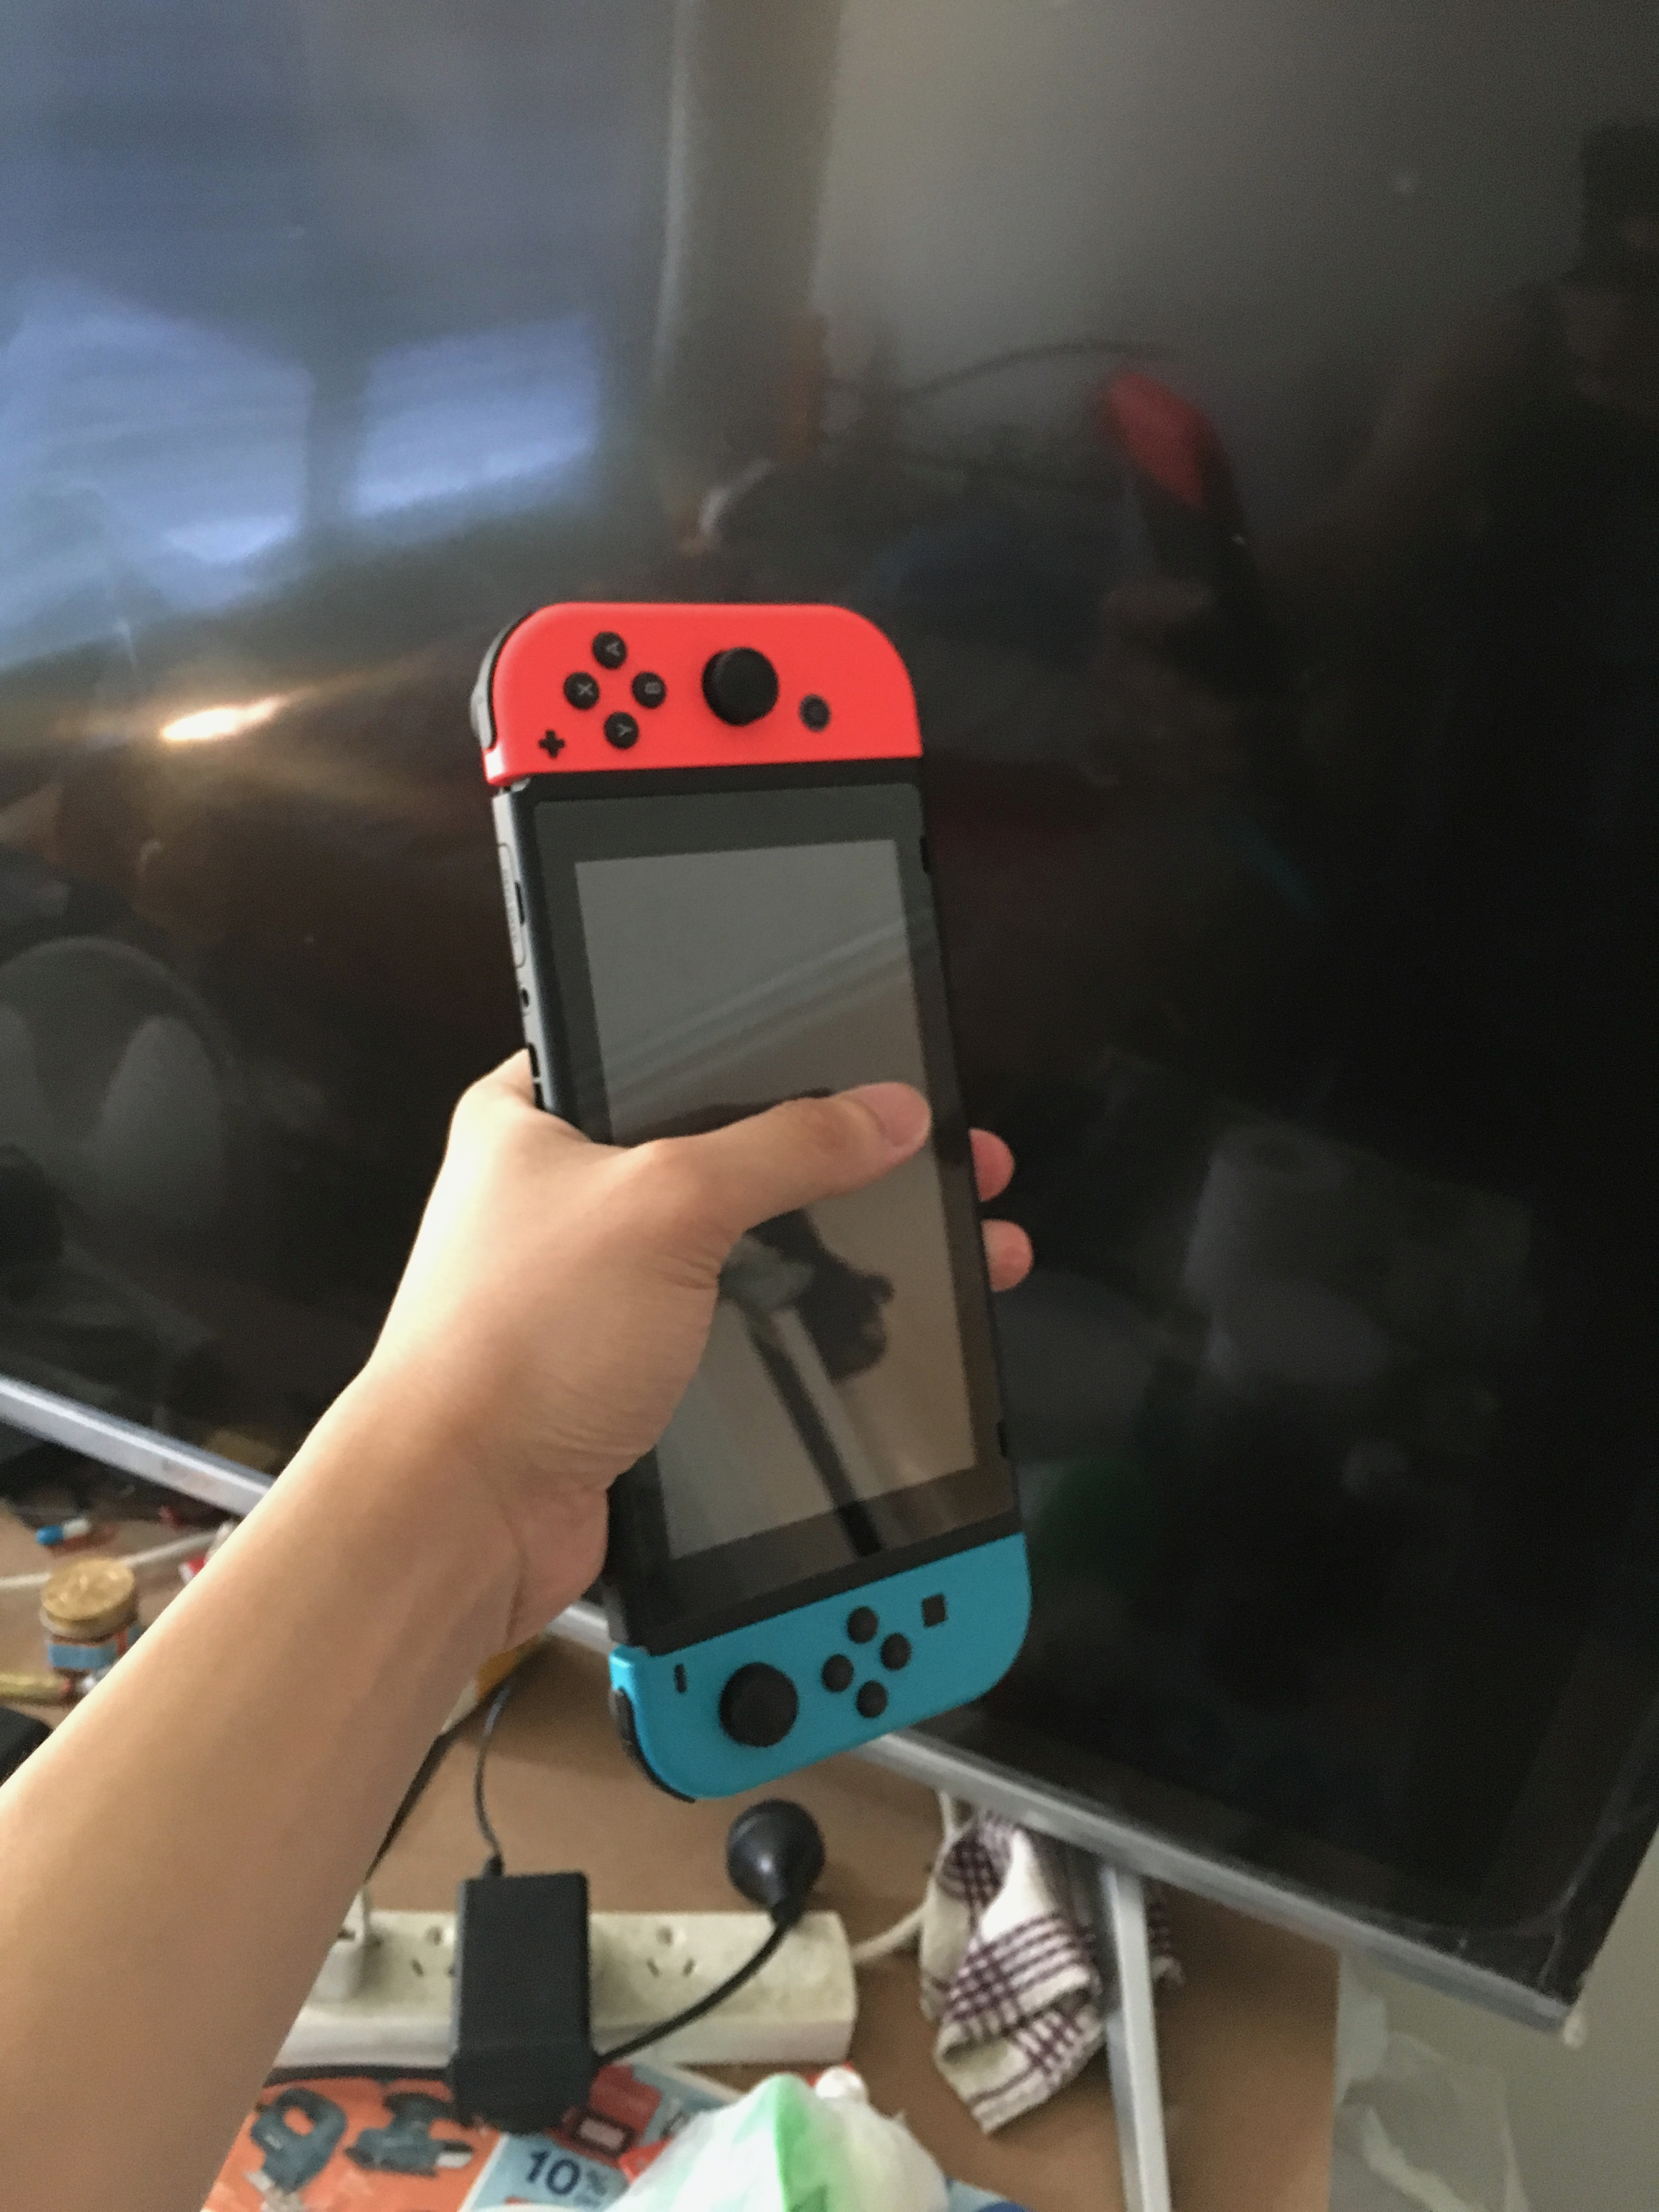NintendoSwitch: (448, 583, 1053, 1808)
